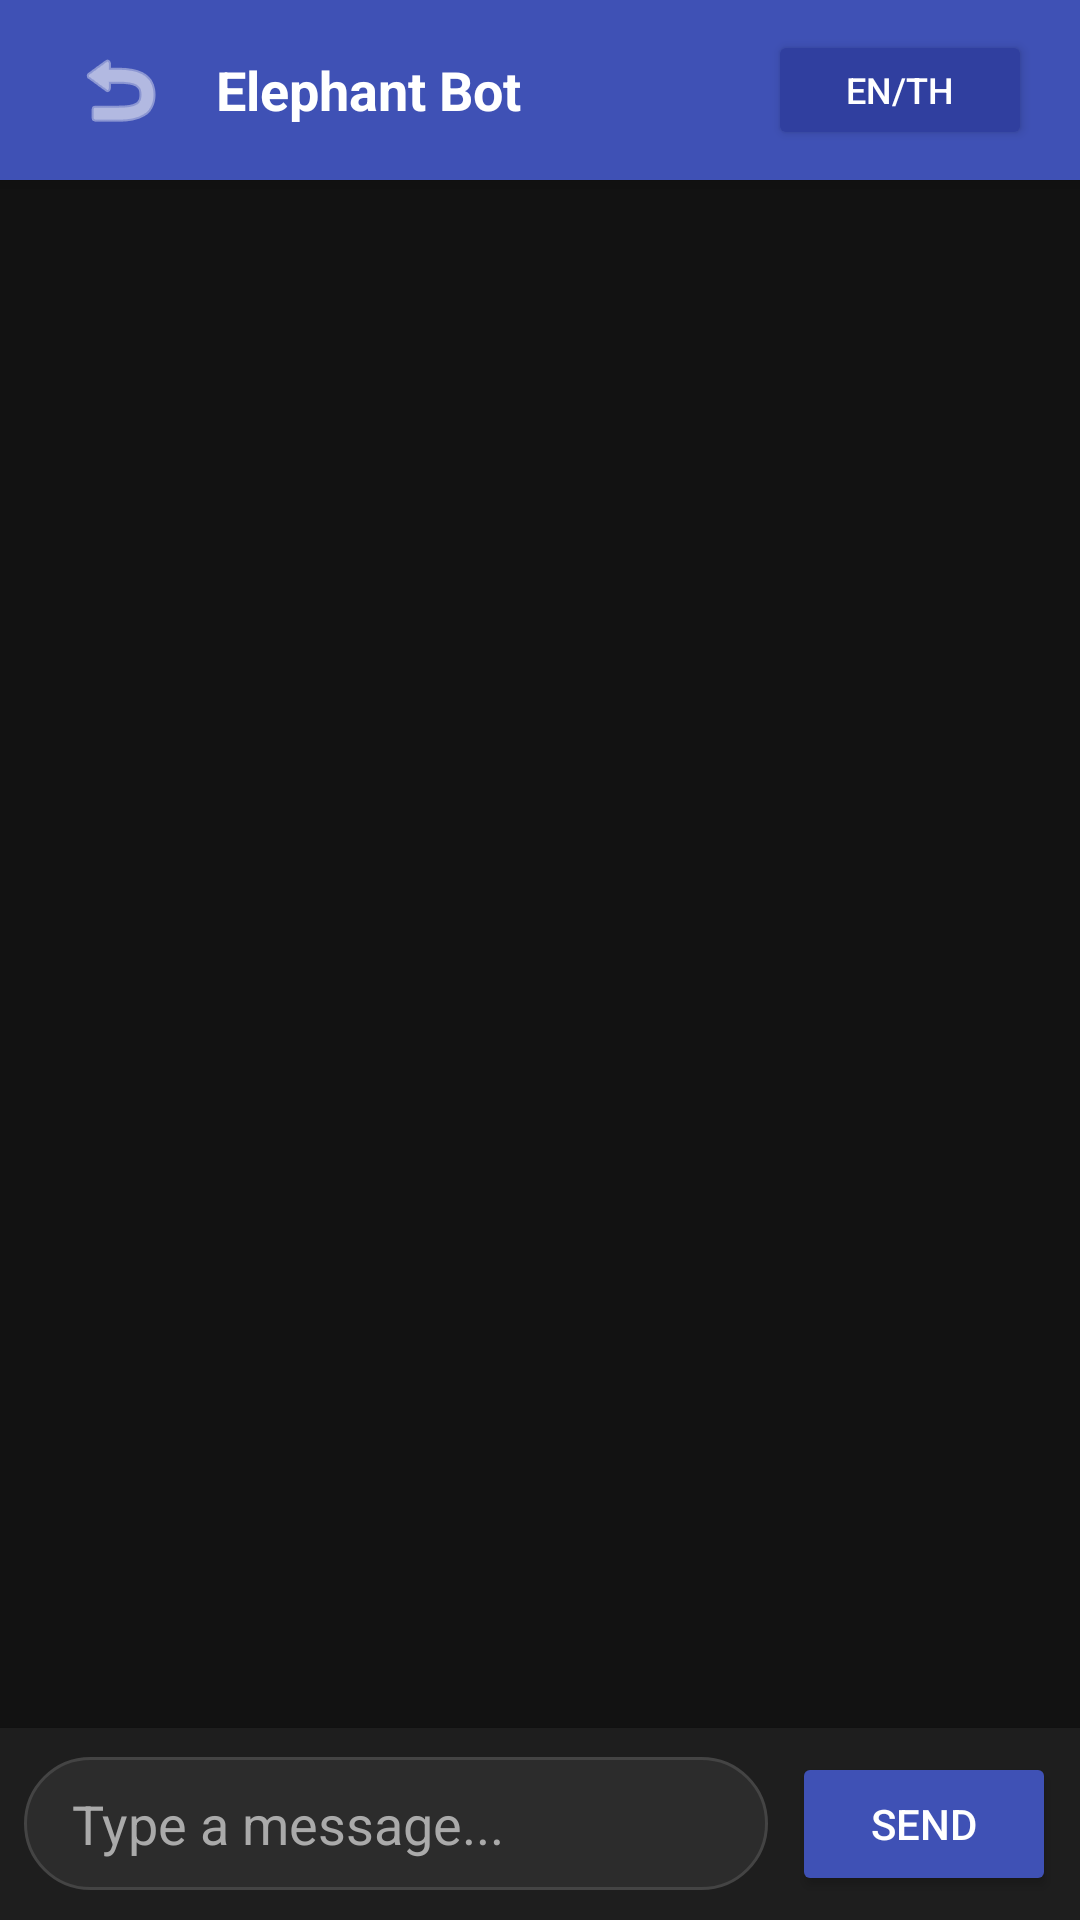

Where to tap for icons on this 1080w x 1920h app screen, as (x,y):
Back: (121,90)
